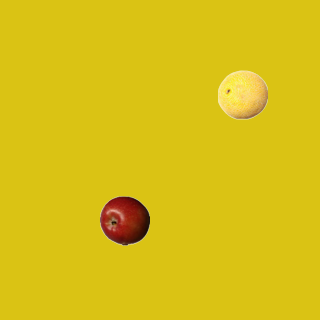Apple Braeburn: (99, 195, 149, 245)
Cantaloupe 1: (217, 69, 267, 119)
